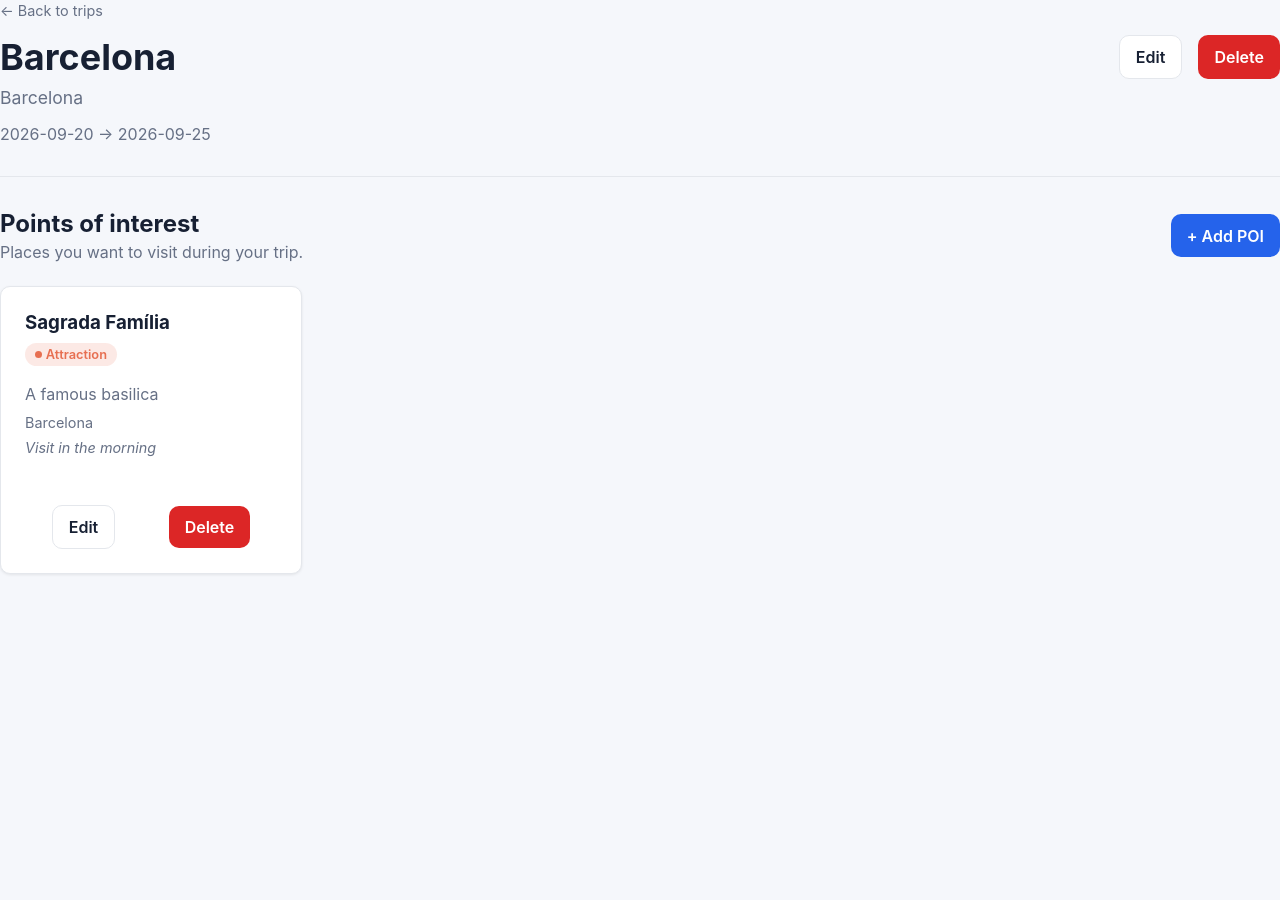
Scenario: TripDetailsPage › deletes a point of interest after confirming
Click the button "Delete" below "Visit in the morning": click(209, 527) [169, 506, 250, 548]
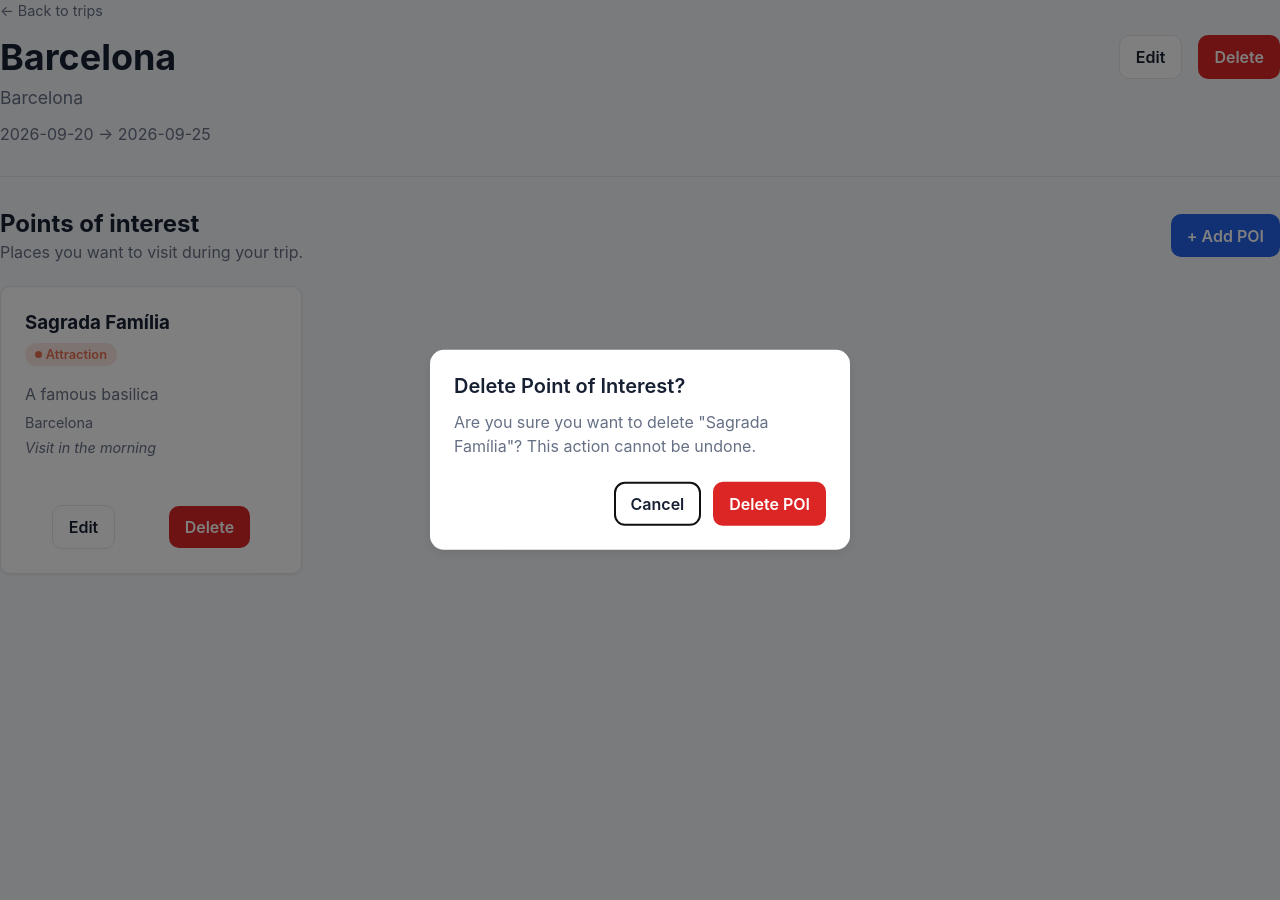
Click the button "Delete POI": click(770, 504) [713, 482, 826, 526]
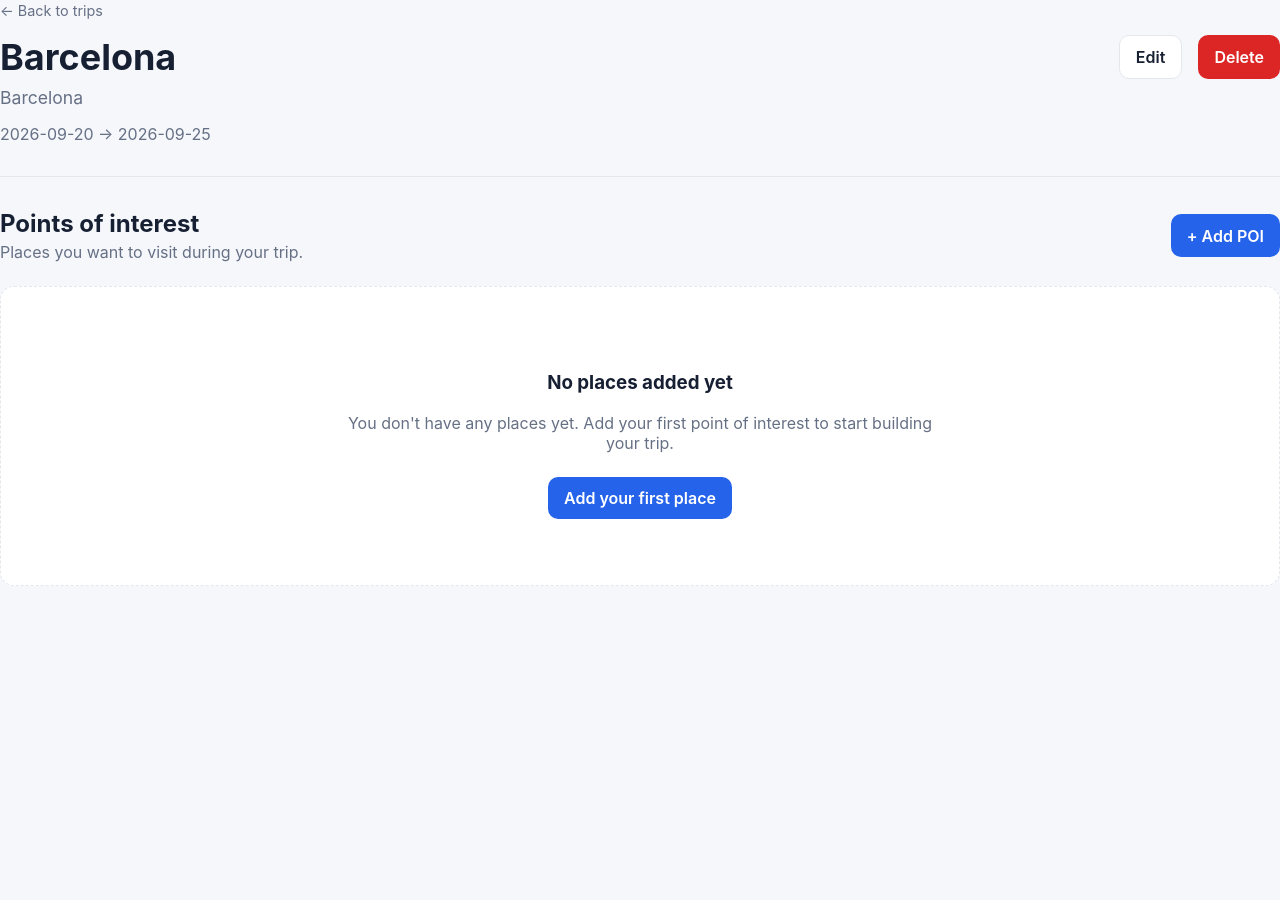
Now the heading "Sagrada Família" is gone
